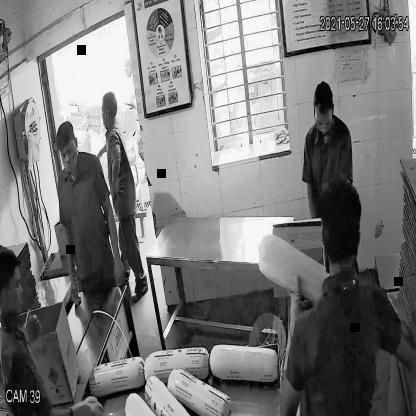no_goggles: (58, 144, 80, 164), (312, 116, 336, 132)
